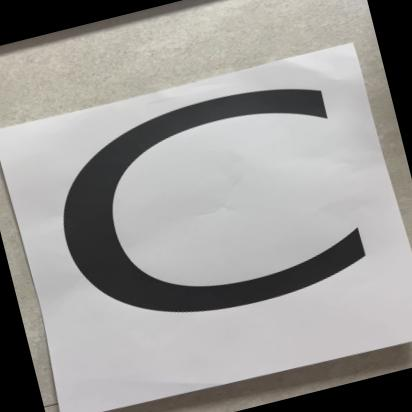seat: (0, 33, 412, 412)
